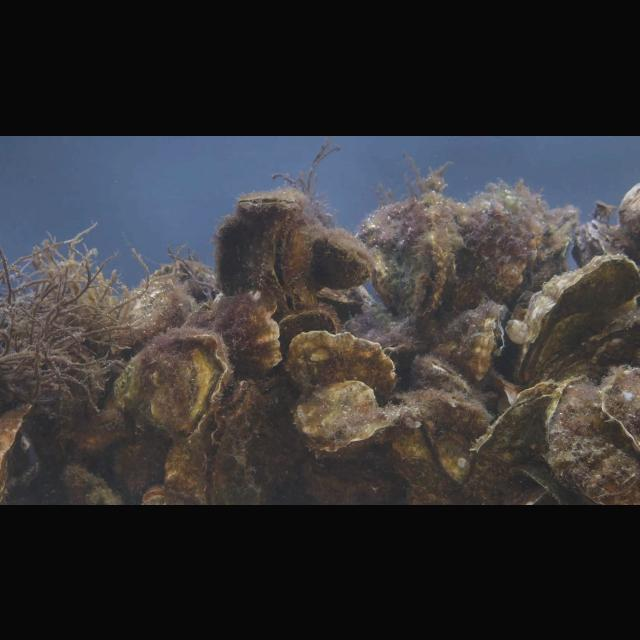Oyster-Closed: (512, 251, 640, 383), (352, 196, 458, 326), (454, 376, 560, 504), (542, 372, 640, 503), (450, 188, 544, 314), (114, 258, 216, 362), (178, 286, 282, 379), (290, 379, 408, 457), (279, 328, 396, 404), (312, 227, 378, 291), (570, 218, 640, 272), (0, 401, 38, 499), (599, 363, 640, 453), (414, 354, 471, 400)
Oyster-Open: (114, 327, 230, 447), (216, 192, 306, 322), (202, 378, 290, 504), (428, 302, 506, 386)
